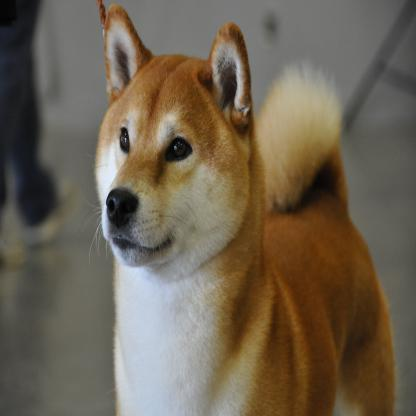Siba-ny: (91, 4, 400, 416)
